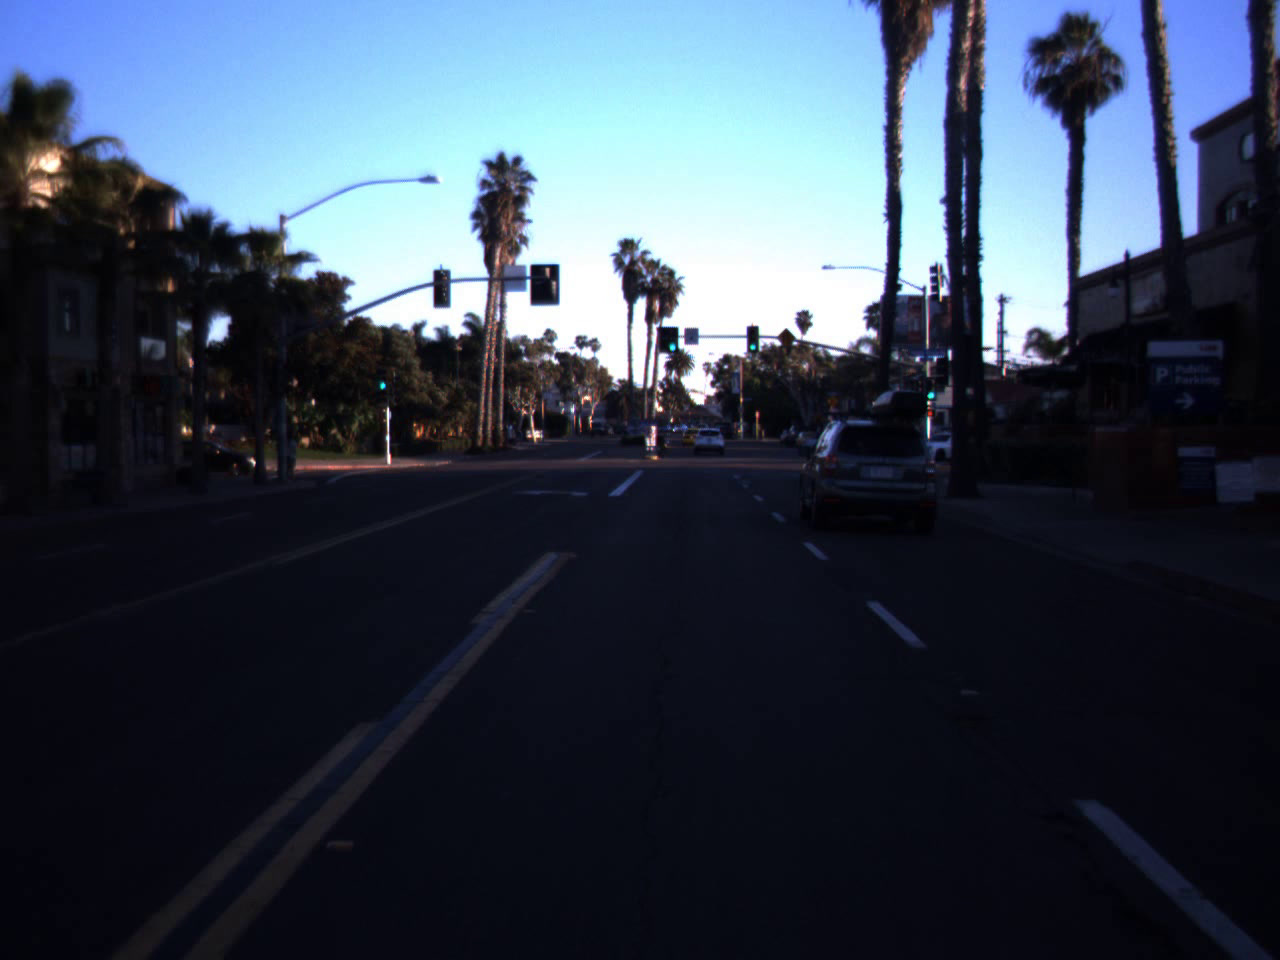go: (922, 375, 940, 400), (665, 327, 680, 352), (377, 365, 389, 390), (747, 331, 759, 351)
